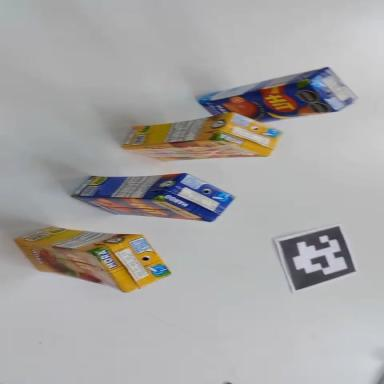HIT-MANGO: (196, 63, 358, 133), (73, 170, 234, 222)
HIT-MORA: (11, 224, 174, 296), (121, 110, 282, 162)
cara_F: (198, 77, 336, 132), (10, 240, 129, 292), (122, 137, 265, 164), (72, 196, 211, 222)
